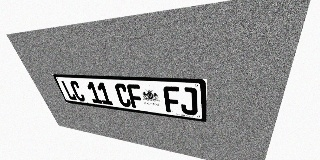1: (95, 82, 113, 105), (85, 82, 103, 104)
C: (114, 83, 132, 107), (69, 81, 86, 102)
F: (163, 86, 181, 114), (126, 84, 144, 109)
J: (179, 87, 197, 116)
L: (60, 80, 78, 101)
